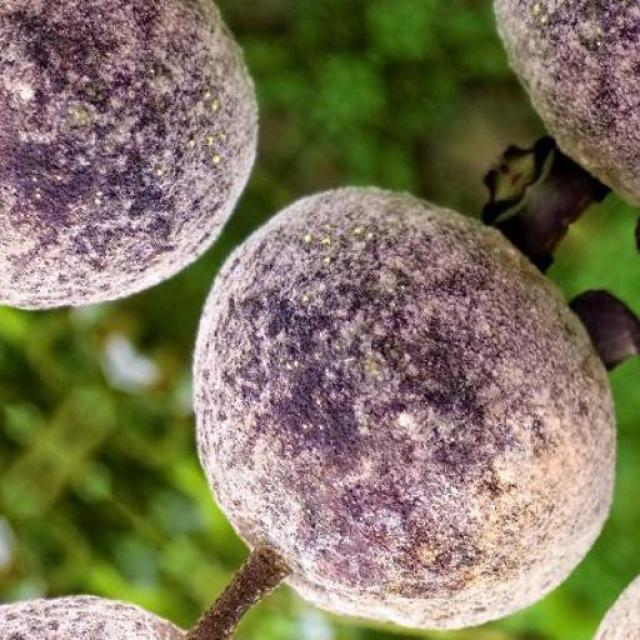Phytopthora: (0, 188, 615, 640), (0, 0, 256, 308)
